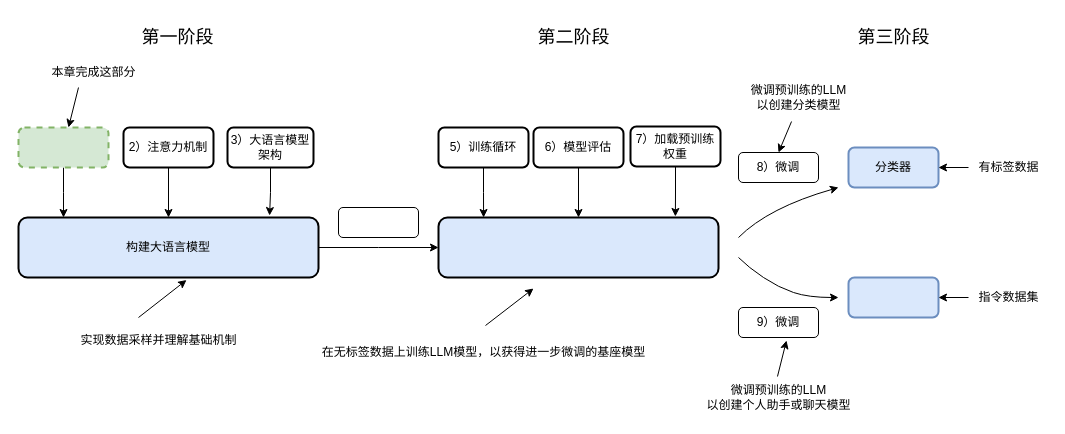
This 1065x434 diagram has some shape labels left out. The centre of each missing label's shape, as x and y in pixels:
1）数据准备和采样: (x=63, y=147)
4）预训练: (x=378, y=222)
个人助手: (x=893, y=297)
基础模型: (x=578, y=247)
